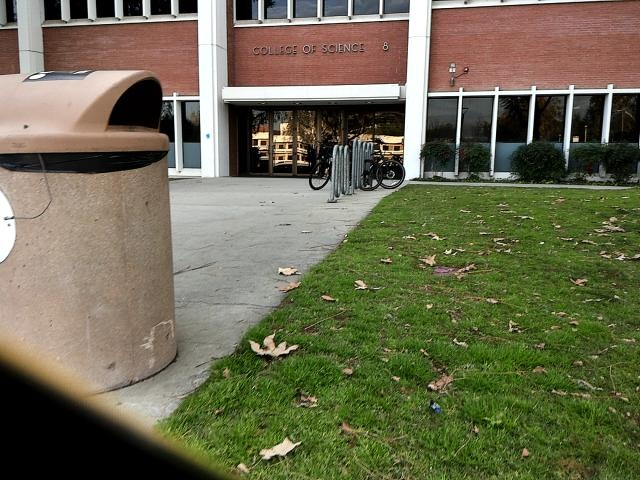trashcan: (1, 52, 179, 397)
